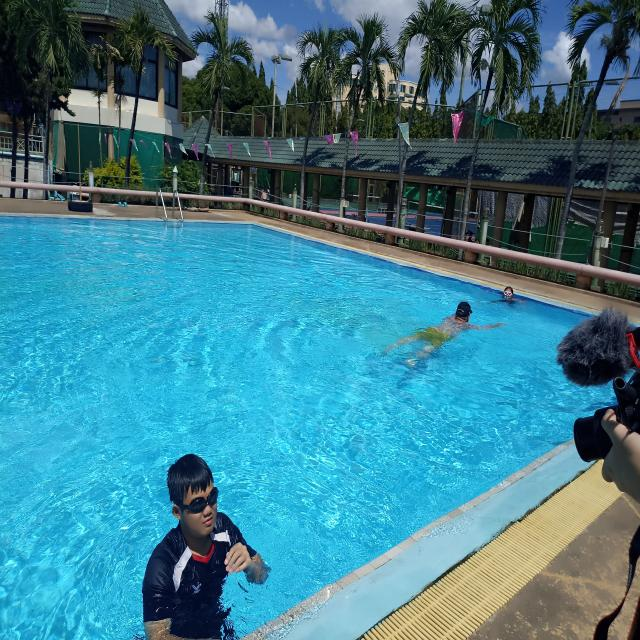Swimming: (136, 453, 272, 640), (383, 300, 508, 368), (497, 281, 523, 315)
